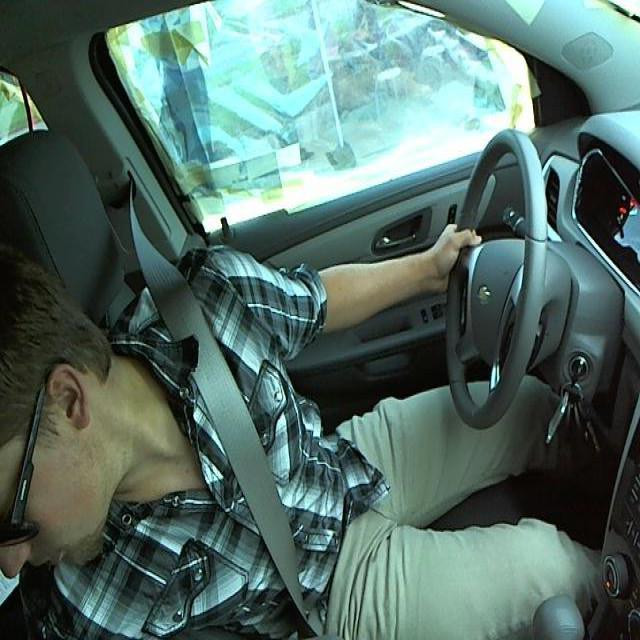seatbelt: (144, 281, 354, 639)
